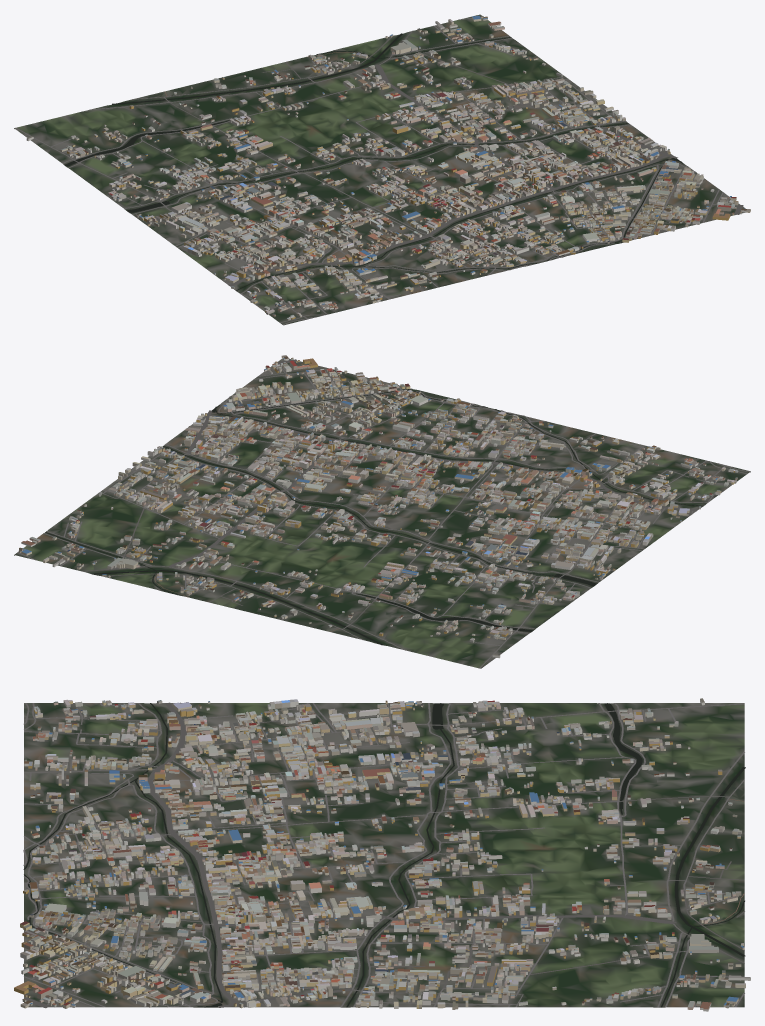
3 views of the same model, one above another, from view 1: azimuth 30°, elevation 25°; view 2: azimuth 150°, elevation 25°; view 3: azimuth 270°, elevation 25° (orthographic). The views are drawn at different scales.
Parts seen in each view (by area): view 1: ground, buildings, roads, water; view 2: ground, buildings, roads, water; view 3: ground, buildings, roads, water.
Part boxes in pixels (x1,y1,x2,y2): ground: (14, 14, 745, 325); buildings: (26, 15, 750, 320); roads: (15, 17, 743, 324); water: (64, 33, 683, 290); ground: (14, 358, 750, 668); buildings: (18, 355, 738, 658); roads: (17, 359, 749, 668); water: (45, 388, 703, 645); ground: (24, 703, 744, 1007); buildings: (14, 698, 750, 1011); roads: (22, 702, 744, 1008); water: (23, 703, 745, 1007).
Bounding box in the file's own units: 1427 × 23.06 × 1433.
